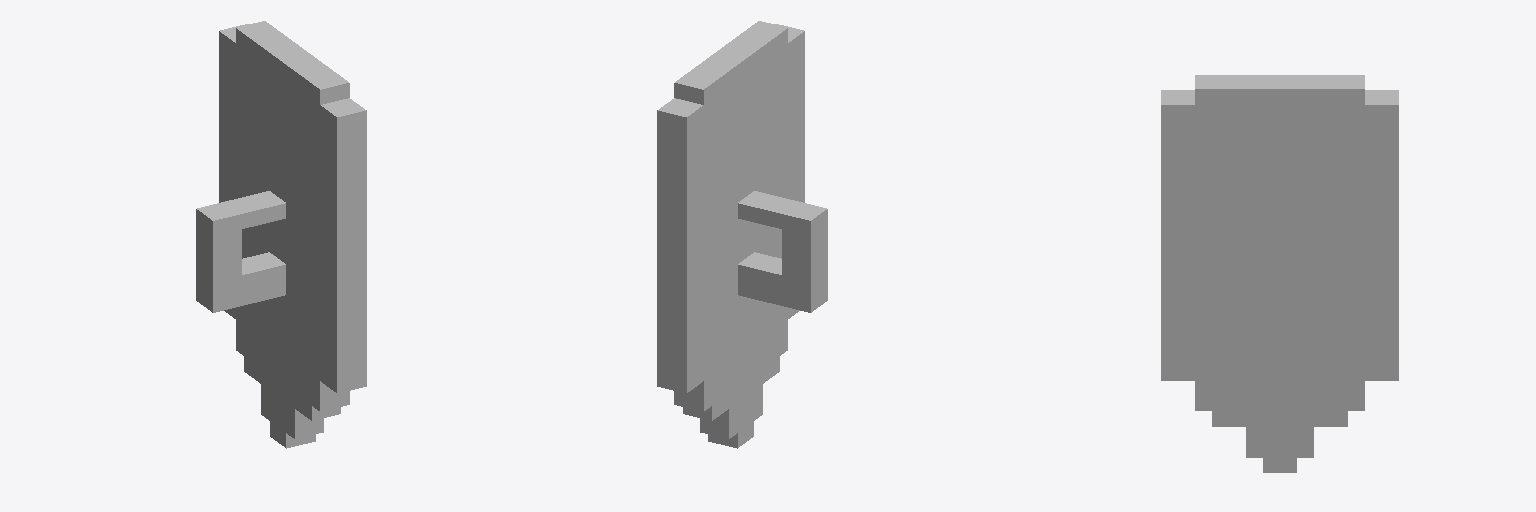
File: EvilChaArcher BOW.obj
3 views of the same model, side by side, from view 1: azimuth 30°, elevation 25°; view 2: azimuth 150°, elevation 25°; view 3: azimuth 270°, elevation 25° (orthographic).
Visible parts, largest first — view 1: object 1; view 2: object 1; view 3: object 1.
Boxes of the visible parts, box(x1,y1,x2,y2) form: object 1: box(196, 21, 366, 448); object 1: box(657, 21, 827, 448); object 1: box(1161, 75, 1398, 472).
Size of the model in its own units: 0.7 by 2.5 by 1.4.